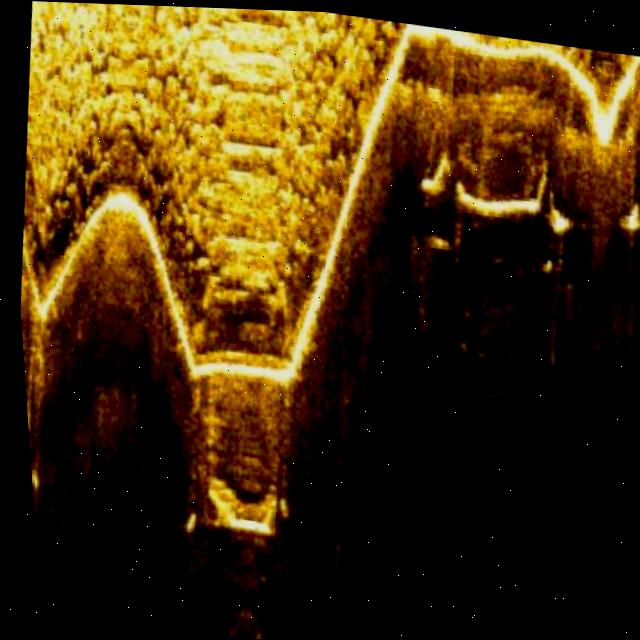bedrock group: (5, 0, 408, 303)
